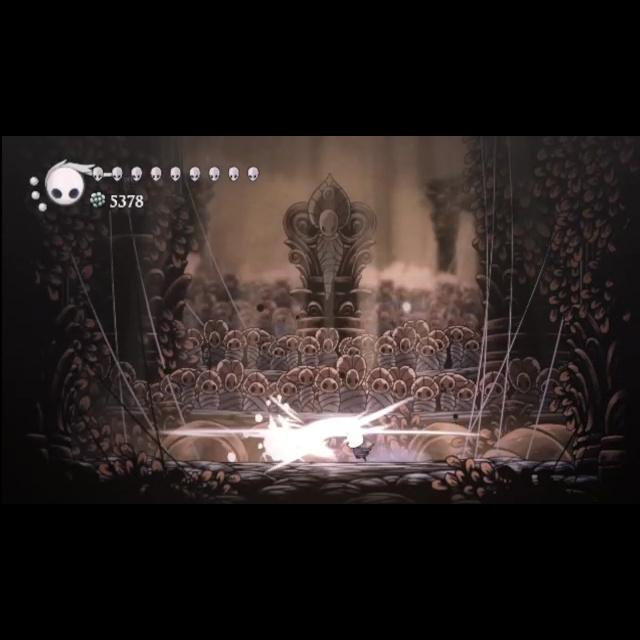EnemyDamaged: (249, 413, 313, 465)
Player: (341, 414, 379, 466)
